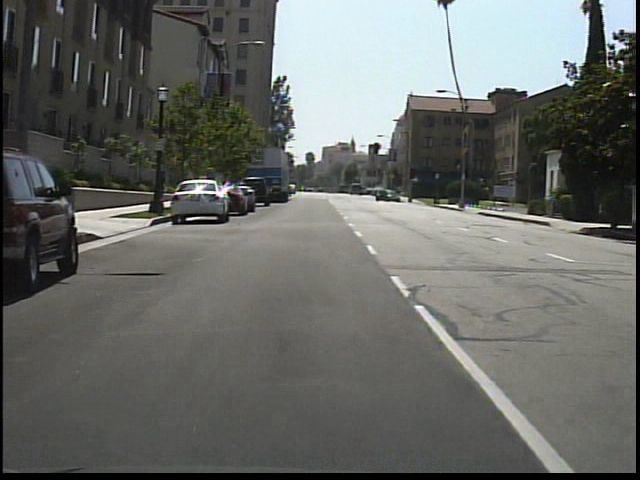person: (153, 167, 172, 212)
